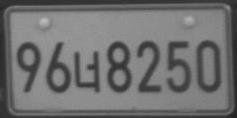0: (195, 38, 222, 93)
2: (136, 39, 161, 93)
5: (165, 40, 192, 92)
6: (45, 41, 71, 93)
8: (105, 40, 132, 93)
9: (15, 40, 41, 93)
너: (73, 50, 100, 92)
